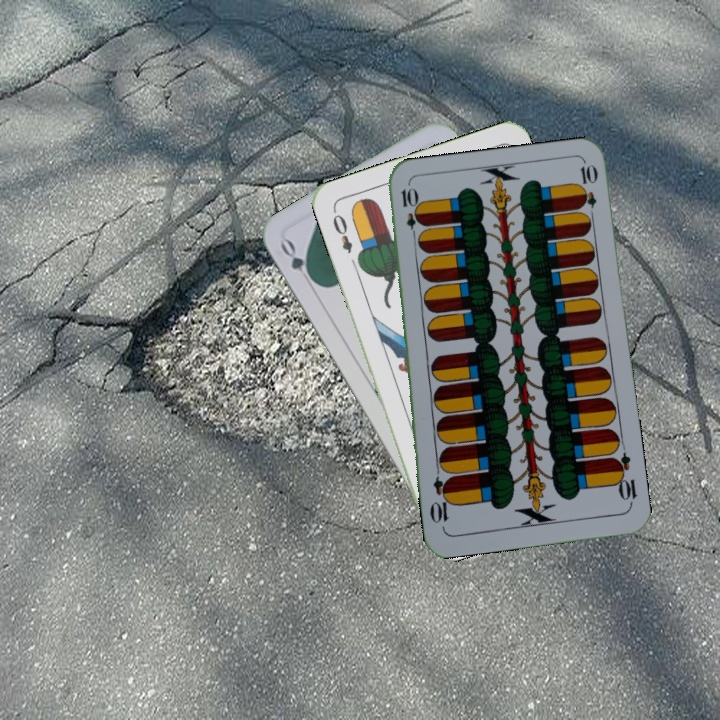E10: (608, 449, 639, 508), (397, 184, 421, 243)
EO: (328, 205, 355, 256)
GO: (276, 235, 320, 290)
